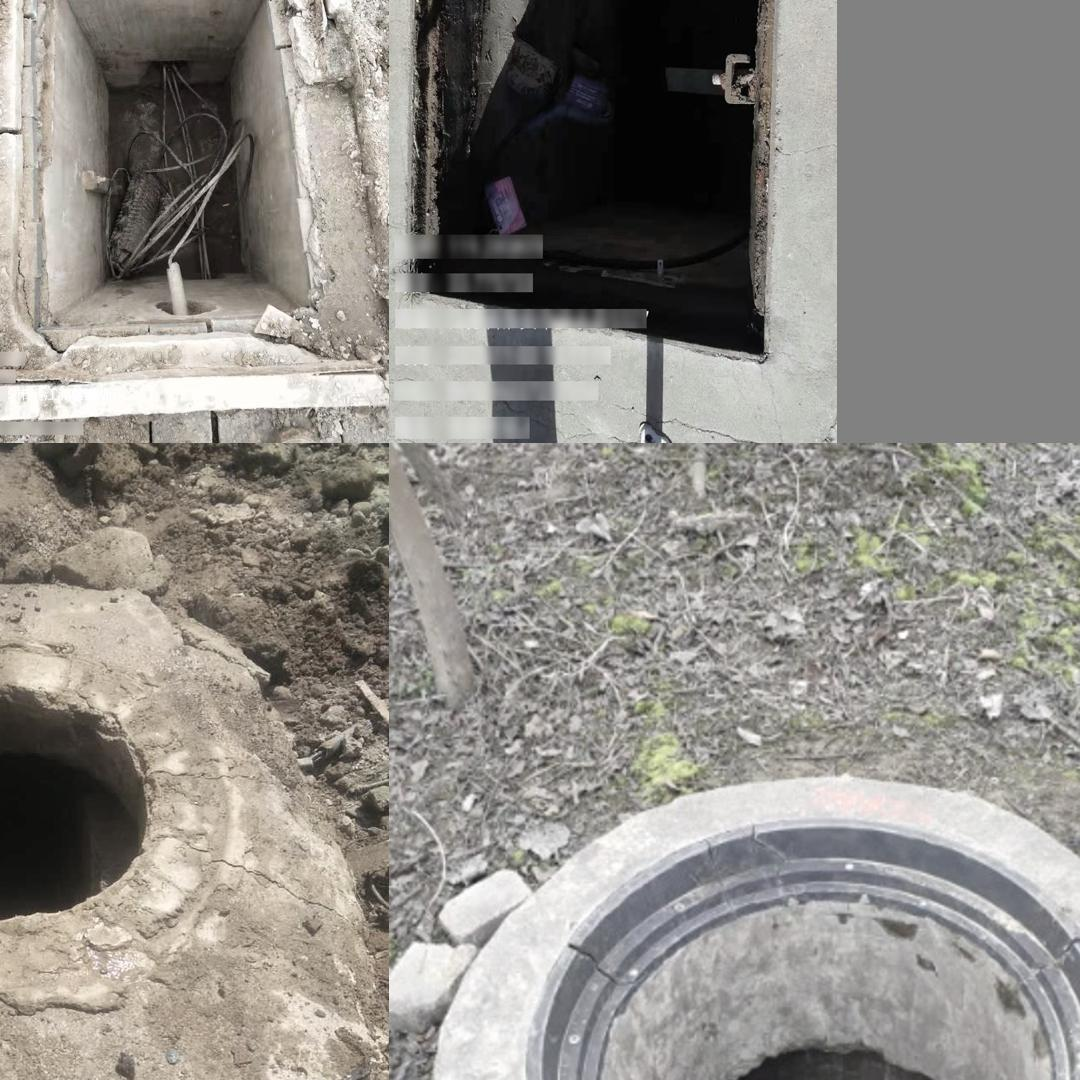lose: (0, 0, 389, 424), (527, 815, 1080, 1080), (401, 0, 787, 370), (0, 682, 158, 923)
